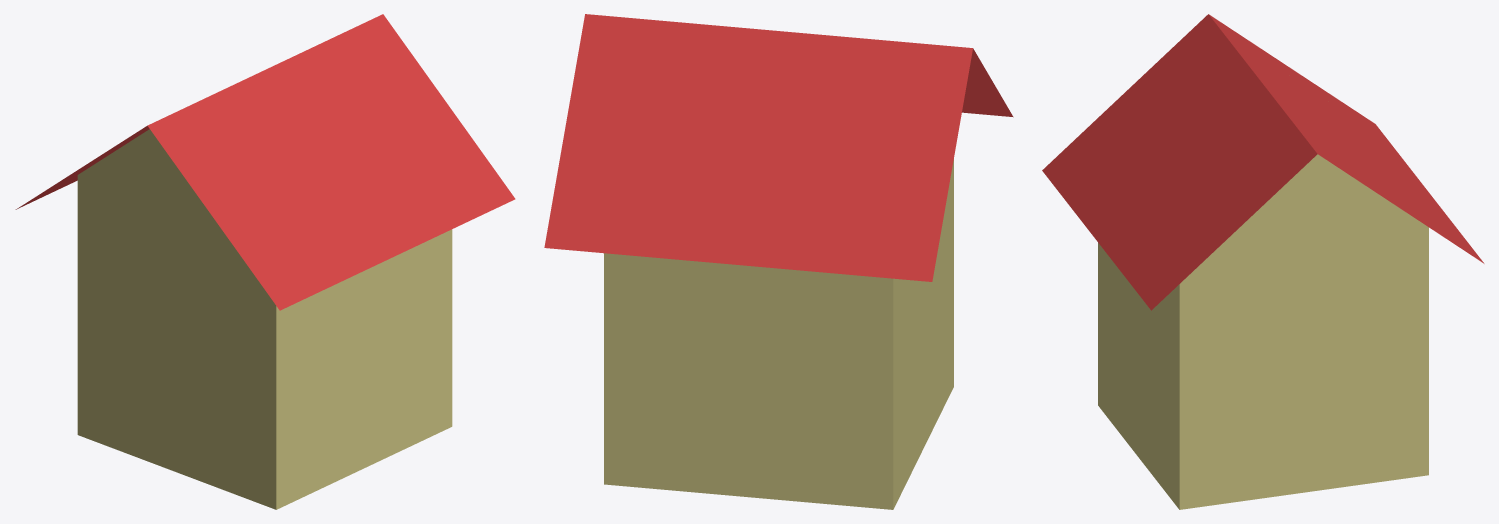
The picture shows the model from 3 angles, left to right: view 1: azimuth 30°, elevation 25°; view 2: azimuth 150°, elevation 25°; view 3: azimuth 270°, elevation 25°; orthographic projection. The views are drawn at different scales.
Size of the model in its own units: 9.96 by 9.99 by 8.87.
